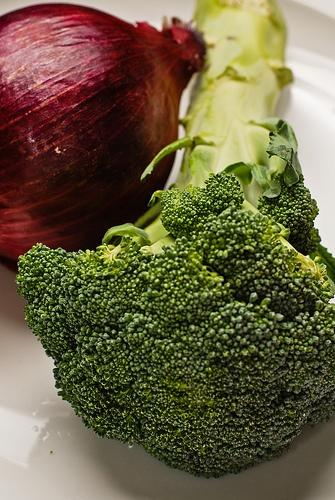broccoli: (15, 0, 335, 479)
onion: (0, 5, 206, 273)
